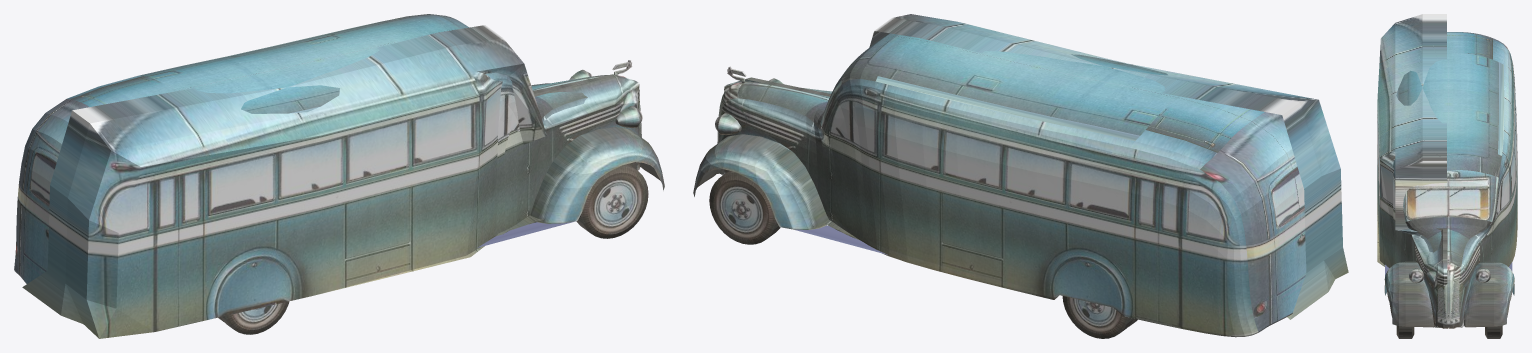
Rendered from ZIS-16.dae.
3 views of the same model, side by side, from view 1: azimuth 30°, elevation 25°; view 2: azimuth 150°, elevation 25°; view 3: azimuth 270°, elevation 25° (orthographic). The views are drawn at different scales.
Parts seen in each view (by area): view 1: ZIS-16; view 2: ZIS-16; view 3: ZIS-16.
Part boxes in pixels (<box>): ZIS-16: <box>14,14,664,338</box>; ZIS-16: <box>693,14,1348,338</box>; ZIS-16: <box>1377,14,1517,338</box>.
Size of the model in its own units: 7.12 by 2.58 by 2.12.
Materials: 6 (6 with a texture image).
